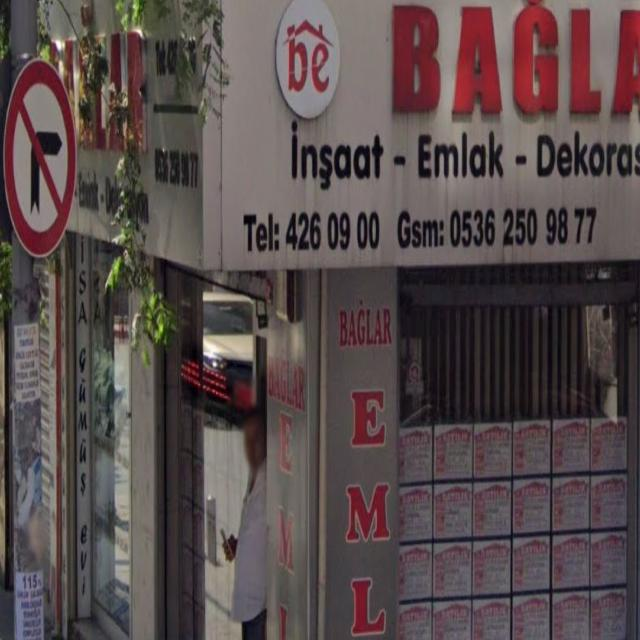sagadonulmez: (5, 56, 76, 258)
